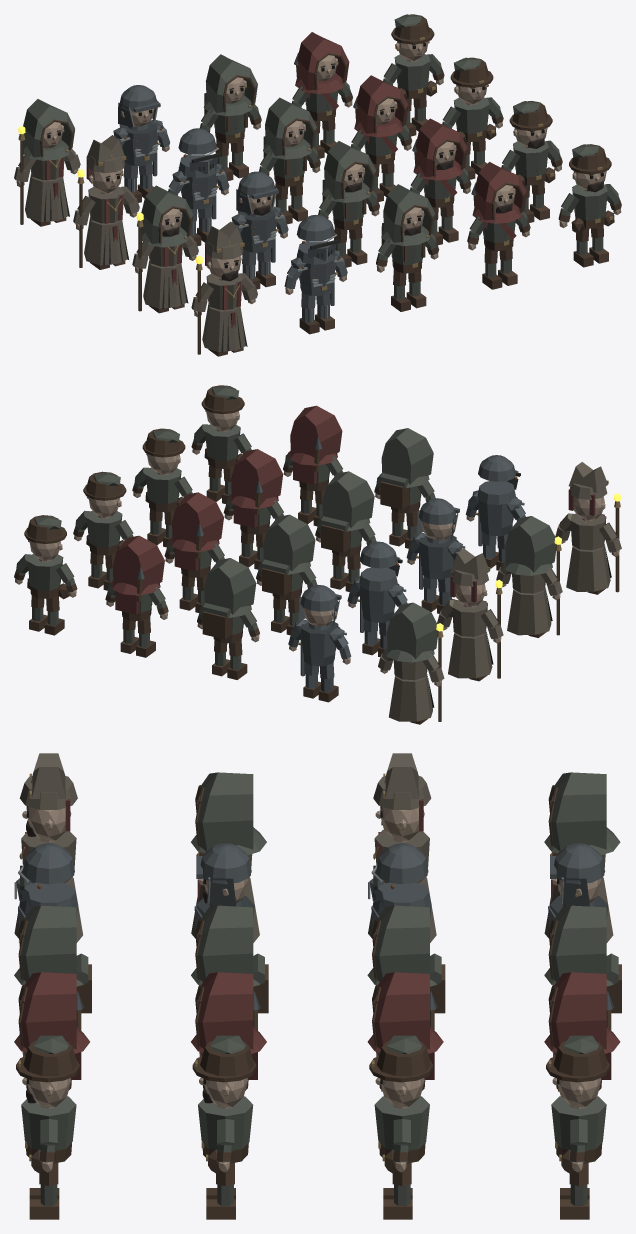
Rendered from npc_20_presets_preview.glb.
3 views of the same model, one above another, from view 1: azimuth 30°, elevation 25°; view 2: azimuth 150°, elevation 25°; view 3: azimuth 270°, elevation 25° (orthographic). The views are drawn at different scales.
Visible parts, largest first — view 1: NPC_RAIDER_F_SHORT_GEAR4__headgear, NPC_RAIDER_F_LONG_GEAR4__headgear, NPC_ADVENTURER_F_LONG_GEAR3__headgear, NPC_ADVENTURER_F_SHORT_GEAR3__headgear, NPC_RAIDER_M_SHORT_GEAR4__headgear, NPC_PRIEST_F_LONG_GEAR3__headgear, NPC_RAIDER_M_LONG_GEAR4__headgear, NPC_ADVENTURER_M_SHORT_GEAR3__headgear, NPC_ADVENTURER_M_LONG_GEAR3__headgear, NPC_PRIEST_M_LONG_GEAR3__headgear, NPC_PRIEST_M_LONG_GEAR3__skirt, NPC_PRIEST_F_SHORT_GEAR2__skirt (+41 smaller); view 2: NPC_PRIEST_M_LONG_GEAR3__headgear, NPC_PRIEST_F_LONG_GEAR3__headgear, NPC_RAIDER_M_SHORT_GEAR4__headgear, NPC_RAIDER_F_LONG_GEAR4__headgear, NPC_RAIDER_M_LONG_GEAR4__headgear, NPC_RAIDER_F_SHORT_GEAR4__headgear, NPC_ADVENTURER_M_LONG_GEAR3__headgear, NPC_ADVENTURER_M_SHORT_GEAR3__headgear, NPC_ADVENTURER_F_SHORT_GEAR3__headgear, NPC_ADVENTURER_F_LONG_GEAR3__headgear, NPC_PRIEST_F_SHORT_GEAR2__skirt, NPC_PRIEST_M_LONG_GEAR3__skirt (+38 smaller); view 3: NPC_PRIEST_M_LONG_GEAR3__headgear, NPC_PRIEST_F_LONG_GEAR3__headgear, NPC_RAIDER_M_LONG_GEAR4__headgear, NPC_RAIDER_M_SHORT_GEAR4__headgear, NPC_RAIDER_F_LONG_GEAR4__headgear, NPC_RAIDER_F_SHORT_GEAR4__headgear, NPC_ADVENTURER_M_LONG_GEAR3__headgear, NPC_ADVENTURER_M_SHORT_GEAR3__headgear, NPC_ADVENTURER_F_LONG_GEAR3__headgear, NPC_ADVENTURER_F_SHORT_GEAR3__headgear, NPC_KNIGHT_F_SHORT_GEAR0__headgear, NPC_KNIGHT_M_SHORT_GEAR0__headgear (+24 smaller).
Part boxes in pixels (left/top/right/bottom): NPC_RAIDER_F_SHORT_GEAR4__headgear: left=354, top=75, right=408, bottom=143; NPC_RAIDER_F_LONG_GEAR4__headgear: left=295, top=32, right=349, bottom=99; NPC_ADVENTURER_F_LONG_GEAR3__headgear: left=203, top=54, right=257, bottom=116; NPC_ADVENTURER_F_SHORT_GEAR3__headgear: left=263, top=97, right=316, bottom=159; NPC_RAIDER_M_SHORT_GEAR4__headgear: left=472, top=162, right=526, bottom=229; NPC_PRIEST_F_LONG_GEAR3__headgear: left=23, top=99, right=74, bottom=160; NPC_RAIDER_M_LONG_GEAR4__headgear: left=413, top=118, right=467, bottom=186; NPC_ADVENTURER_M_SHORT_GEAR3__headgear: left=381, top=184, right=435, bottom=246; NPC_ADVENTURER_M_LONG_GEAR3__headgear: left=322, top=141, right=376, bottom=202; NPC_PRIEST_M_LONG_GEAR3__headgear: left=141, top=185, right=193, bottom=247; NPC_PRIEST_M_LONG_GEAR3__skirt: left=143, top=260, right=188, bottom=309; NPC_PRIEST_F_SHORT_GEAR2__skirt: left=84, top=216, right=128, bottom=265; NPC_PRIEST_M_LONG_GEAR3__headgear: left=503, top=516, right=555, bottom=575; NPC_PRIEST_F_LONG_GEAR3__headgear: left=385, top=602, right=437, bottom=662; NPC_RAIDER_M_SHORT_GEAR4__headgear: left=288, top=405, right=342, bottom=465; NPC_RAIDER_F_LONG_GEAR4__headgear: left=111, top=535, right=164, bottom=595; NPC_RAIDER_M_LONG_GEAR4__headgear: left=229, top=449, right=283, bottom=508; NPC_RAIDER_F_SHORT_GEAR4__headgear: left=170, top=492, right=223, bottom=552; NPC_ADVENTURER_M_LONG_GEAR3__headgear: left=320, top=471, right=374, bottom=531; NPC_ADVENTURER_M_SHORT_GEAR3__headgear: left=379, top=428, right=433, bottom=487; NPC_ADVENTURER_F_SHORT_GEAR3__headgear: left=261, top=514, right=315, bottom=574; NPC_ADVENTURER_F_LONG_GEAR3__headgear: left=202, top=558, right=256, bottom=617; NPC_PRIEST_F_SHORT_GEAR2__skirt: left=448, top=630, right=493, bottom=678; NPC_PRIEST_M_LONG_GEAR3__skirt: left=507, top=587, right=552, bottom=635; NPC_PRIEST_M_LONG_GEAR3__headgear: left=191, top=772, right=266, bottom=854; NPC_PRIEST_F_LONG_GEAR3__headgear: left=544, top=772, right=620, bottom=855; NPC_RAIDER_M_LONG_GEAR4__headgear: left=191, top=972, right=266, bottom=1053; NPC_RAIDER_M_SHORT_GEAR4__headgear: left=14, top=972, right=89, bottom=1053; NPC_RAIDER_F_LONG_GEAR4__headgear: left=544, top=972, right=620, bottom=1053; NPC_RAIDER_F_SHORT_GEAR4__headgear: left=367, top=972, right=443, bottom=1053; NPC_ADVENTURER_M_LONG_GEAR3__headgear: left=191, top=905, right=259, bottom=986; NPC_ADVENTURER_M_SHORT_GEAR3__headgear: left=14, top=905, right=83, bottom=986; NPC_ADVENTURER_F_LONG_GEAR3__headgear: left=544, top=905, right=613, bottom=986; NPC_ADVENTURER_F_SHORT_GEAR3__headgear: left=367, top=905, right=436, bottom=986; NPC_KNIGHT_F_SHORT_GEAR0__headgear: left=368, top=843, right=431, bottom=913; NPC_KNIGHT_M_SHORT_GEAR0__headgear: left=14, top=843, right=78, bottom=913.
Bounding box in the file's own units: 7.75 × 2.12 × 6.37.
